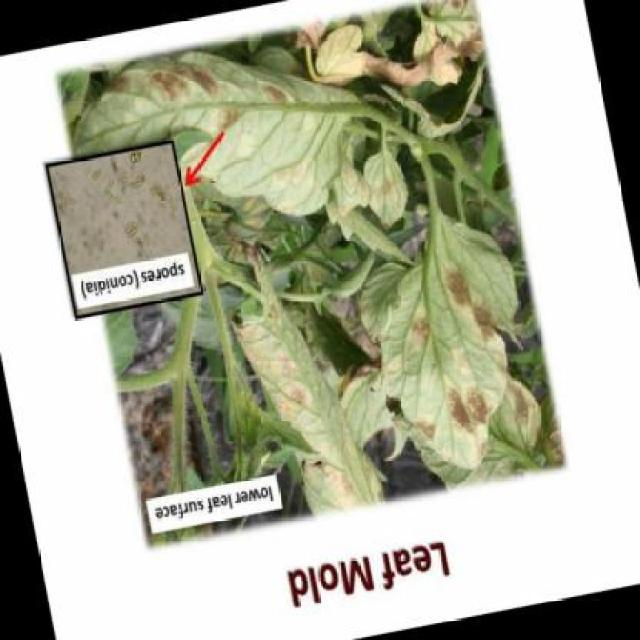Leaf Mold: (350, 194, 553, 488), (224, 247, 398, 522), (41, 27, 361, 175), (355, 138, 422, 235)
